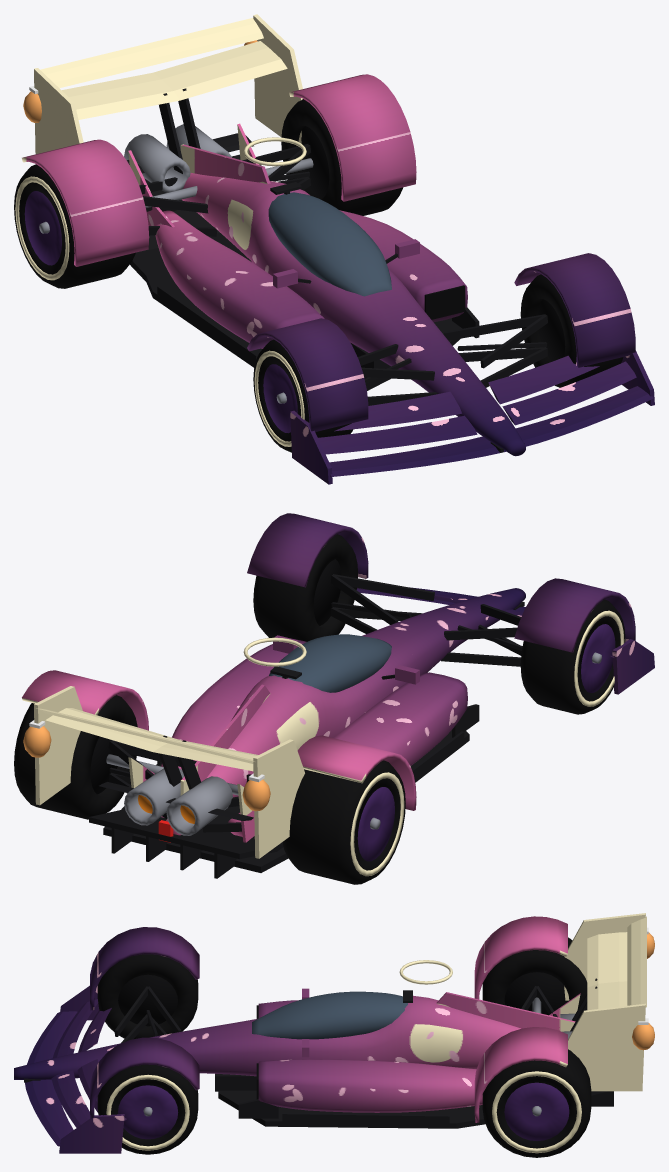
The model's file is sakura_c.fbx.
3 views of the same model, one above another, from view 1: azimuth 30°, elevation 25°; view 2: azimuth 150°, elevation 25°; view 3: azimuth 270°, elevation 25° (orthographic). The views are drawn at different scales.
Visible parts, largest first — view 1: Body, Trim, Glass, Wheel_RL, Wheel_RR, Wheel_FL, Wheel_FR, Glow; view 2: Body, Trim, Wheel_RL, Wheel_FL, Wheel_FR, Wheel_RR, Glass, Glow; view 3: Body, Wheel_RR, Trim, Wheel_FR, Wheel_FL, Glass, Wheel_RL, Glow.
Part boxes in pixels (left/top/right/bottom): Body: left=22, top=14, right=654, bottom=484; Trim: left=124, top=88, right=547, bottom=452; Glass: left=268, top=192, right=391, bottom=296; Wheel_RL: left=14, top=164, right=135, bottom=288; Wheel_RR: left=281, top=99, right=402, bottom=215; Wheel_FL: left=253, top=339, right=353, bottom=452; Wheel_FR: left=520, top=274, right=623, bottom=387; Glow: left=23, top=40, right=306, bottom=166; Body: left=22, top=513, right=654, bottom=858; Trim: left=89, top=574, right=524, bottom=878; Wheel_RL: left=282, top=760, right=405, bottom=884; Wheel_FL: left=520, top=599, right=625, bottom=714; Wheel_FR: left=253, top=534, right=358, bottom=641; Wheel_RR: left=14, top=695, right=137, bottom=819; Glass: left=269, top=634, right=391, bottom=692; Glow: left=23, top=637, right=306, bottom=842; Body: left=14, top=913, right=646, bottom=1153; Wheel_RR: left=482, top=1049, right=591, bottom=1157; Trim: left=24, top=978, right=613, bottom=1128; Wheel_FR: left=97, top=1064, right=198, bottom=1154; Wheel_FL: left=97, top=954, right=198, bottom=1038; Glass: left=252, top=991, right=407, bottom=1039; Wheel_RL: left=482, top=937, right=587, bottom=1015; Glow: left=399, top=932, right=654, bottom=1050.
Bounding box in the file's own units: 9.91 × 4.38 × 19.12.
Materials: 5 (1 with a texture image).
